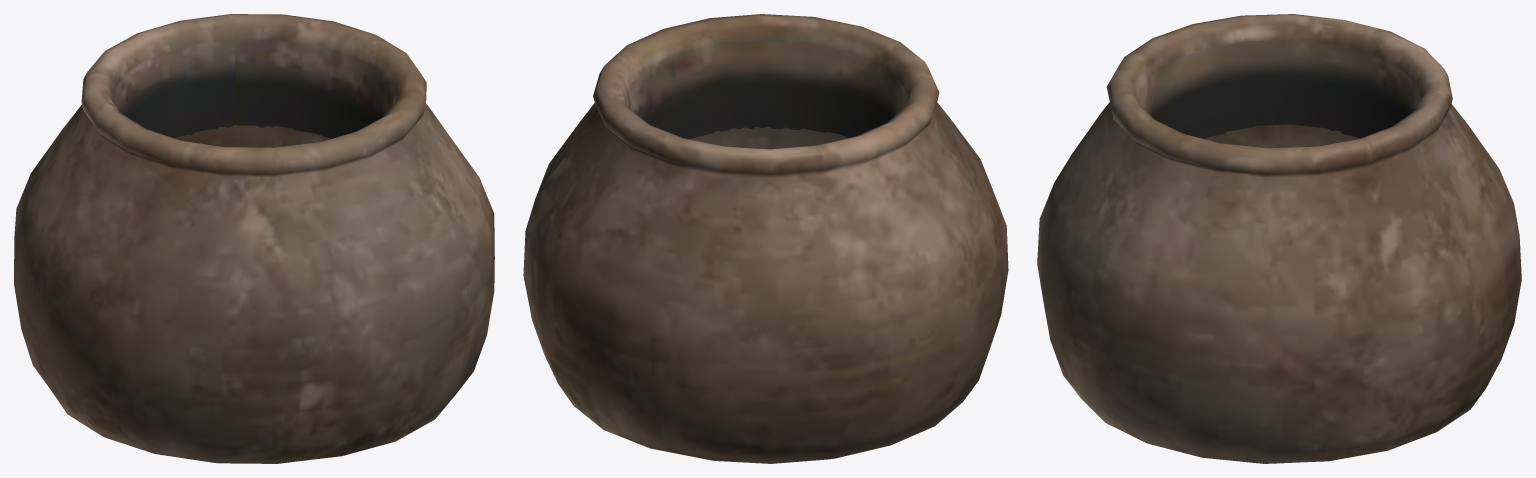
The picture shows the model from 3 angles, left to right: view 1: azimuth 30°, elevation 25°; view 2: azimuth 150°, elevation 25°; view 3: azimuth 270°, elevation 25°; orthographic projection.
Visible parts, largest first — view 1: SM_Pot_03_LOD0; view 2: SM_Pot_03_LOD0; view 3: SM_Pot_03_LOD0.
Part boxes in pixels (x1,y1,x2,y2): SM_Pot_03_LOD0: (14, 14, 494, 463); SM_Pot_03_LOD0: (523, 14, 1008, 463); SM_Pot_03_LOD0: (1037, 14, 1521, 463).
Bounding box in the file's own units: 0.3336 × 0.2312 × 0.3337.
1 material, 1 textured.
